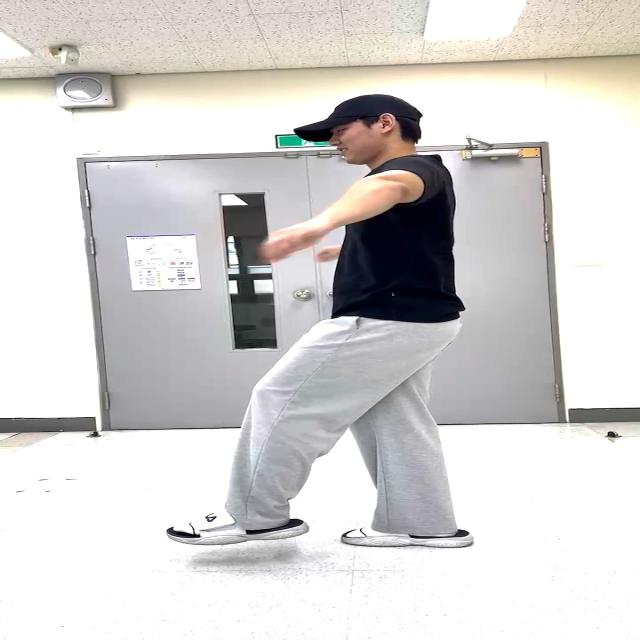leg: (172, 327, 382, 571)
